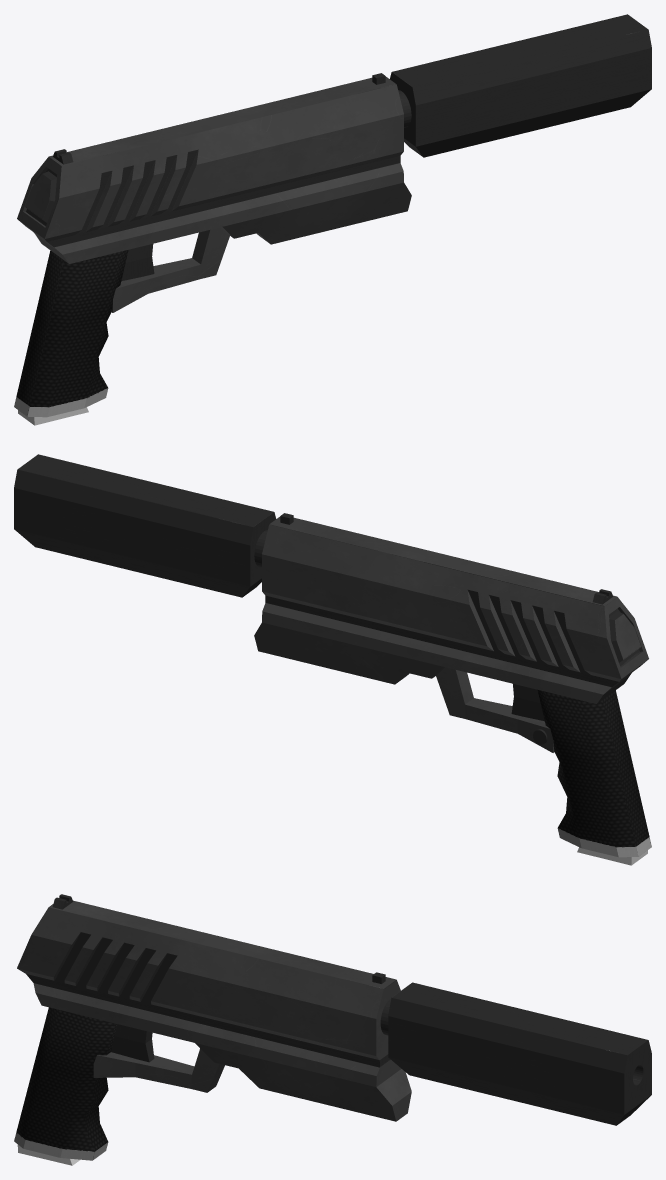
File: Pistol.fbx
3 renders of one model, top to bottom at view 1: azimuth 30°, elevation 25°; view 2: azimuth 150°, elevation 25°; view 3: azimuth 330°, elevation 25°, orthographic.
Visible parts, largest first — view 1: Pistol; view 2: Pistol; view 3: Pistol.
Boxes of the visible parts, <box> form: Pistol: <box>14,14,651,417</box>; Pistol: <box>14,454,651,857</box>; Pistol: <box>14,894,651,1160</box>.
Bounding box in the file's own units: 412 × 164 × 31.95.
